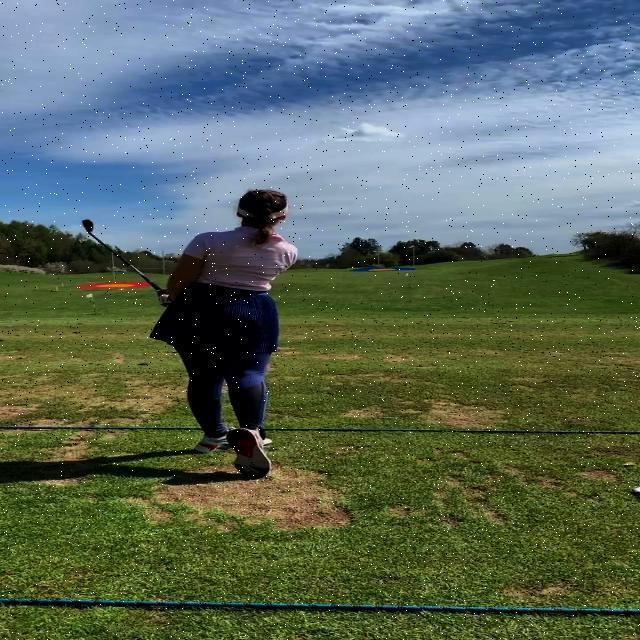ClubHead: (82, 218, 95, 232)
